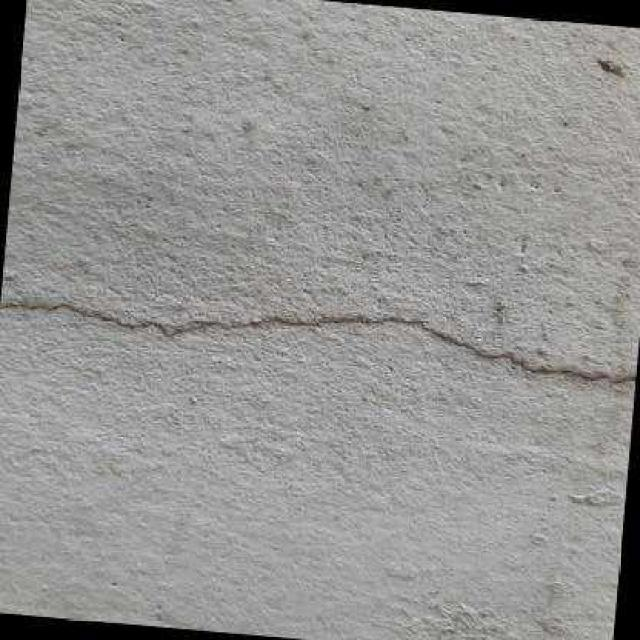D00: (0, 304, 636, 382)
